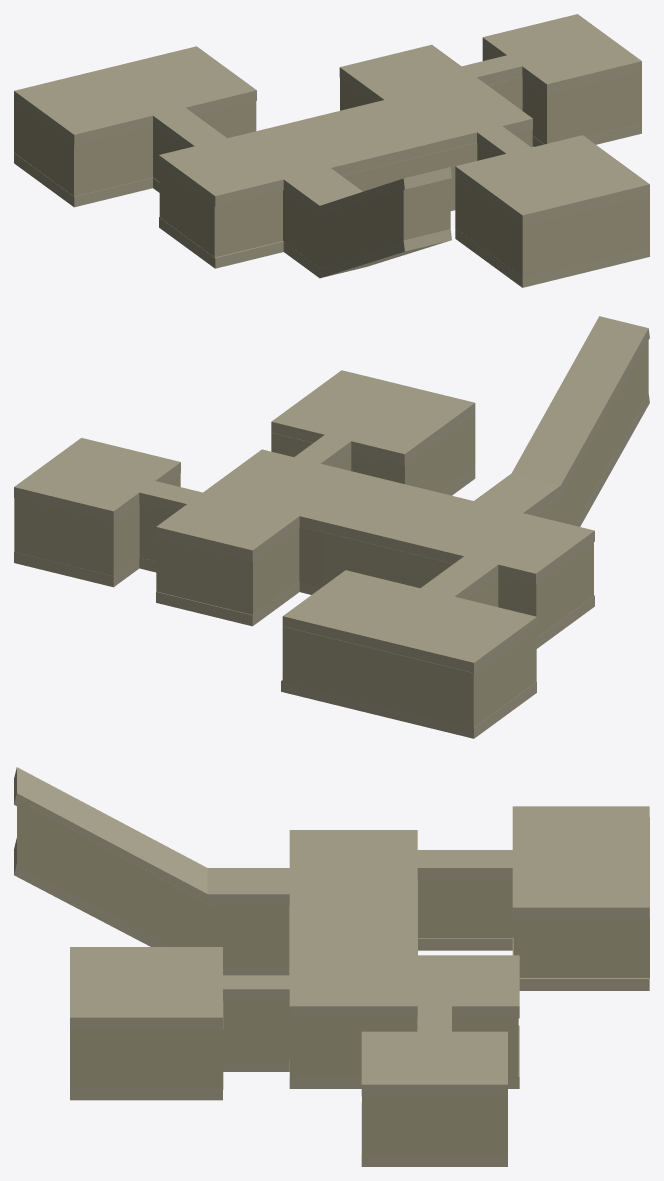
Rendered from Map 1.fbx.
The picture shows the model from 3 angles, top to bottom: view 1: azimuth 30°, elevation 25°; view 2: azimuth 150°, elevation 25°; view 3: azimuth 270°, elevation 25°; orthographic projection. The views are drawn at different scales.
Parts seen in each view (by area): view 1: pCube3, pCube2, pCube4; view 2: pCube3, pCube2, pCube4; view 3: pCube3, pCube2, pCube4.
Boxes of the visible parts, box(x1,y1,x2,y2) form: pCube3: box(14, 14, 649, 225); pCube2: box(14, 48, 649, 278); pCube4: box(14, 123, 649, 287); pCube3: box(14, 316, 649, 673); pCube2: box(14, 341, 648, 728); pCube4: box(14, 393, 649, 738); pCube3: box(14, 767, 649, 1096); pCube2: box(17, 804, 649, 1154); pCube4: box(14, 838, 649, 1166).
Size of the model in its own units: 22.49 by 6.92 by 21.72.
